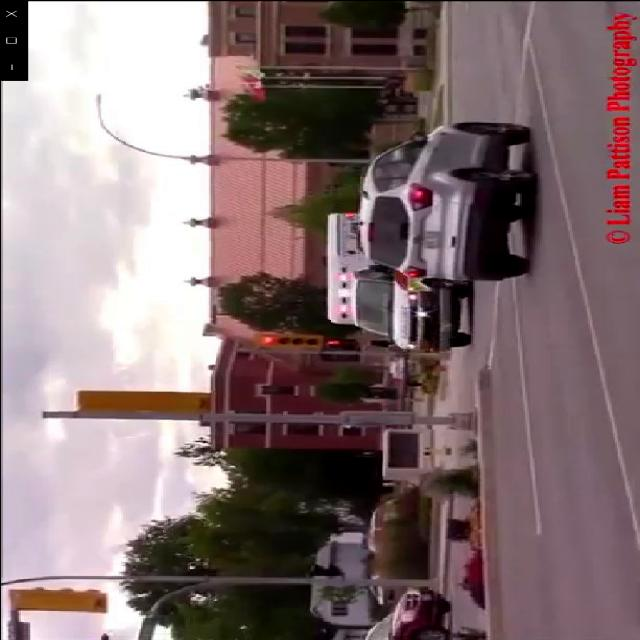emergency: (318, 204, 478, 356)
